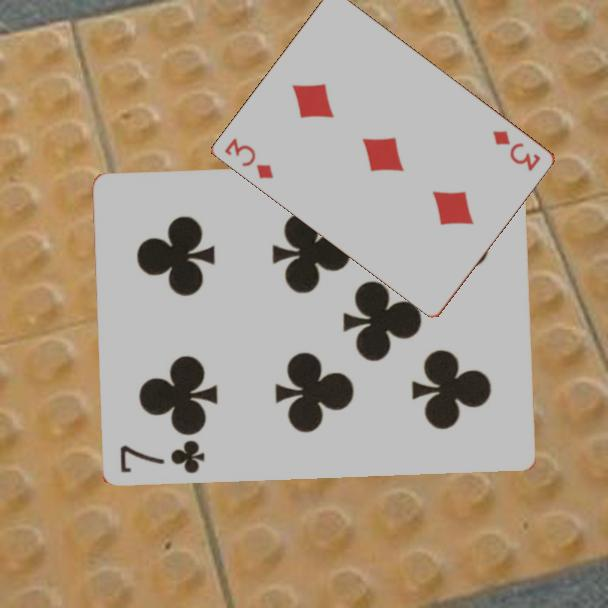c07: (116, 436, 208, 476)
d03: (221, 134, 277, 182), (489, 127, 544, 174)
